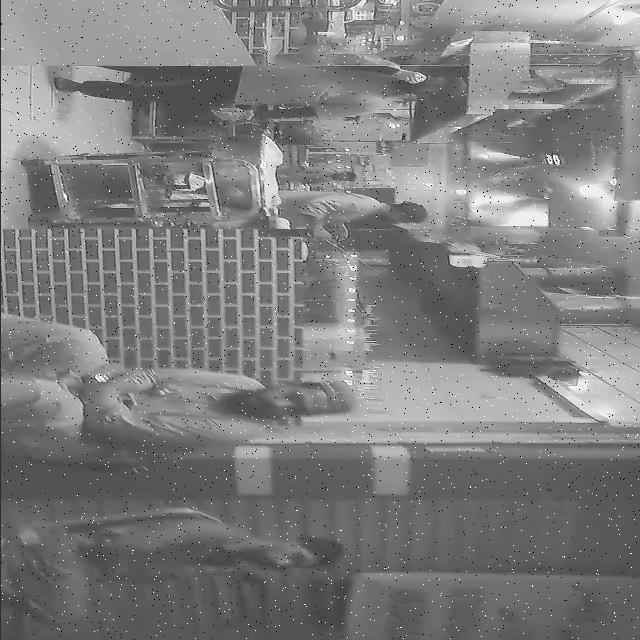face_no_mask: (229, 380, 331, 419)
